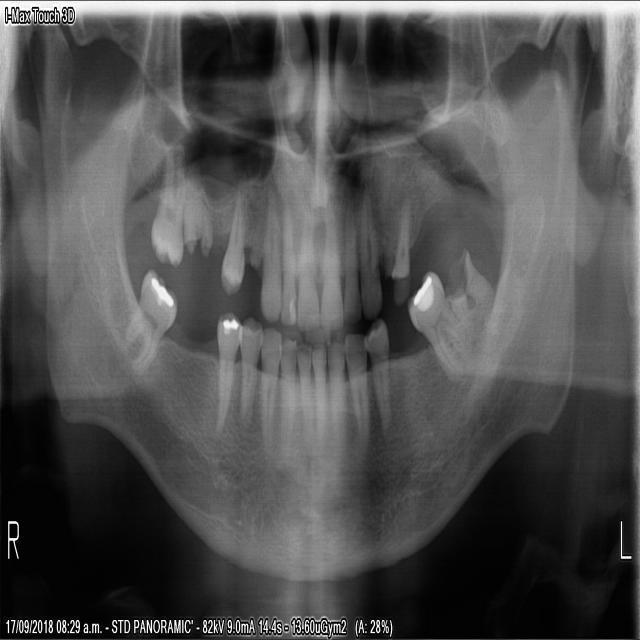LCU: (358, 186, 381, 321)
LID: (325, 337, 346, 490), (310, 338, 325, 463)
LIU: (318, 197, 343, 333), (341, 201, 362, 327)
LMD: (404, 260, 477, 384)
LPMD: (361, 313, 394, 451), (343, 328, 368, 461)
RCD: (255, 322, 282, 465)
RCU: (255, 192, 281, 323)
RID: (277, 331, 296, 464), (294, 338, 310, 466)
RIU: (294, 201, 320, 334), (277, 207, 295, 327)
RMD: (118, 264, 178, 378)
RMU: (145, 142, 184, 268)
RPMD: (210, 306, 243, 435), (234, 313, 263, 435)
RPMU: (217, 179, 245, 296)
